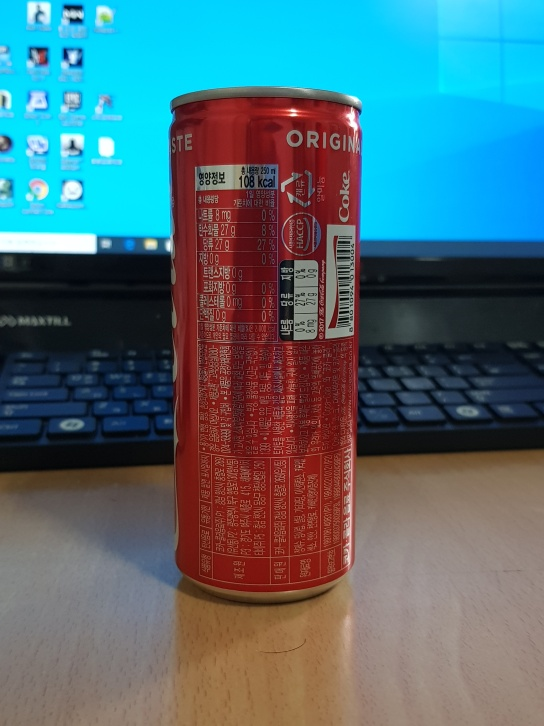Can: (167, 83, 362, 607)
